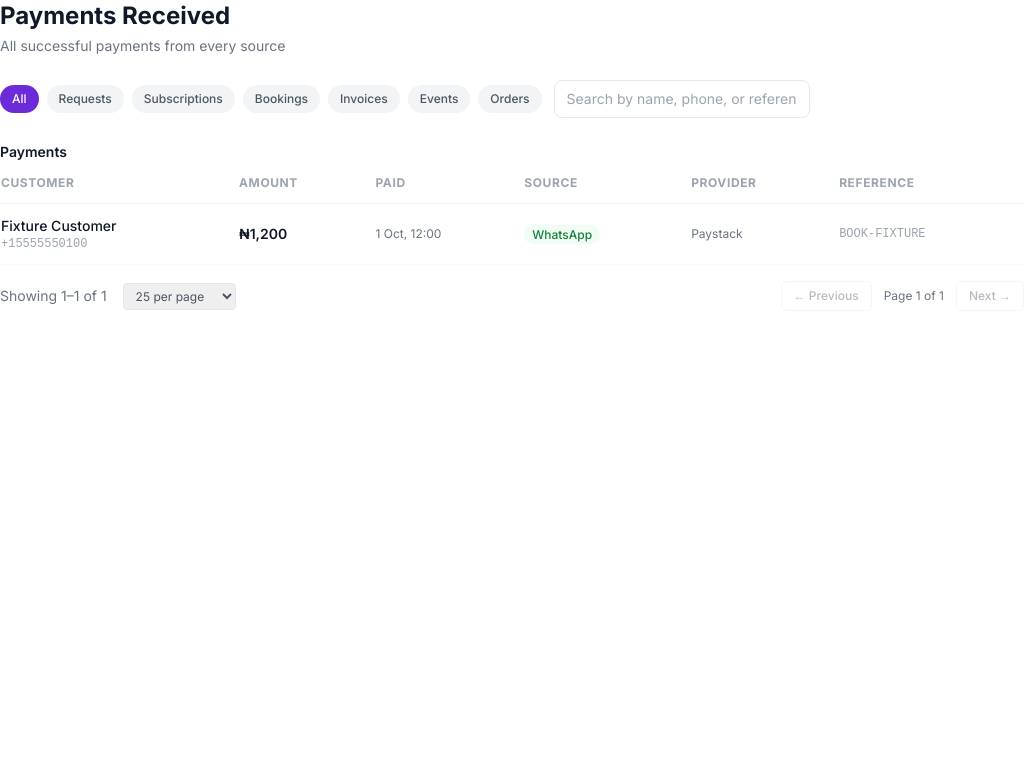
Test: W22 Payments Received mounted page › renders the outgoing booking object in the row and detail modal
Check: the text "+15555550100" is shown, box top-left (1, 237), bottom-right (87, 251)
Check: the text "WhatsApp" is shown, box top-left (524, 225), bottom-right (600, 244)
Click the button with aria-label "View payment from Fixture Customer": (59, 226) top-left (0, 204), bottom-right (1023, 264)
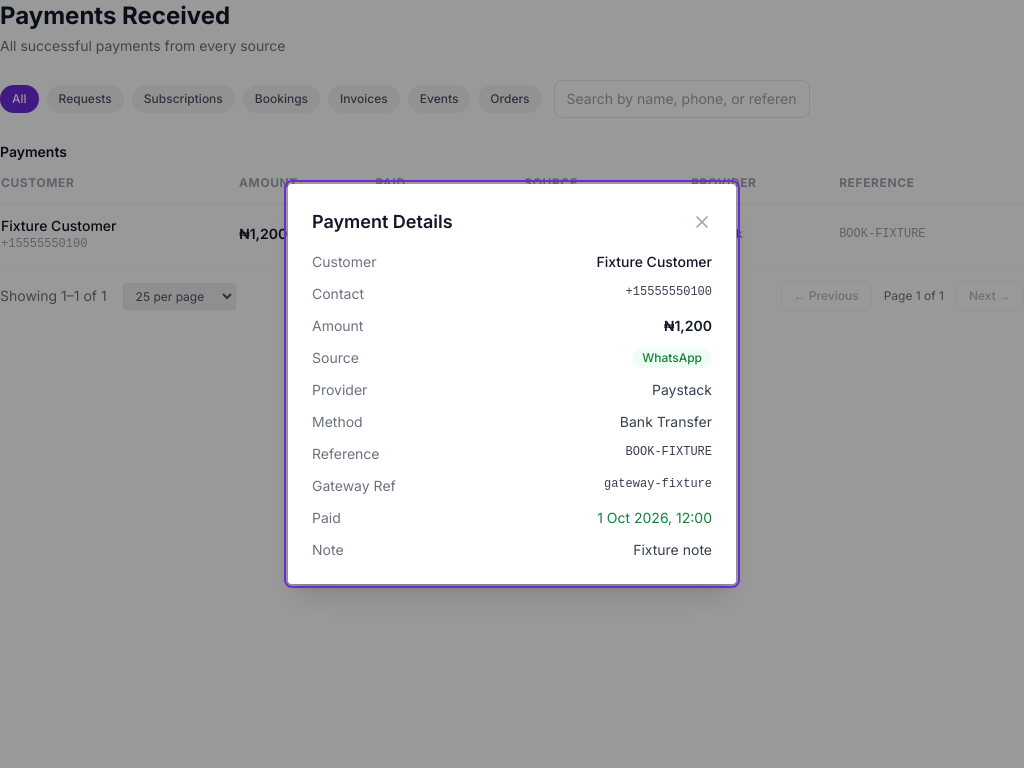
Check: the text "Fixture Customer" is shown, box top-left (596, 252), bottom-right (712, 272)
Check: the text "+15555550100" is shown, box top-left (626, 284), bottom-right (712, 304)
Check: the text "WhatsApp" is shown, box top-left (632, 348), bottom-right (712, 368)
Click the button named "Close payment details": (702, 222) top-left (692, 212), bottom-right (712, 232)
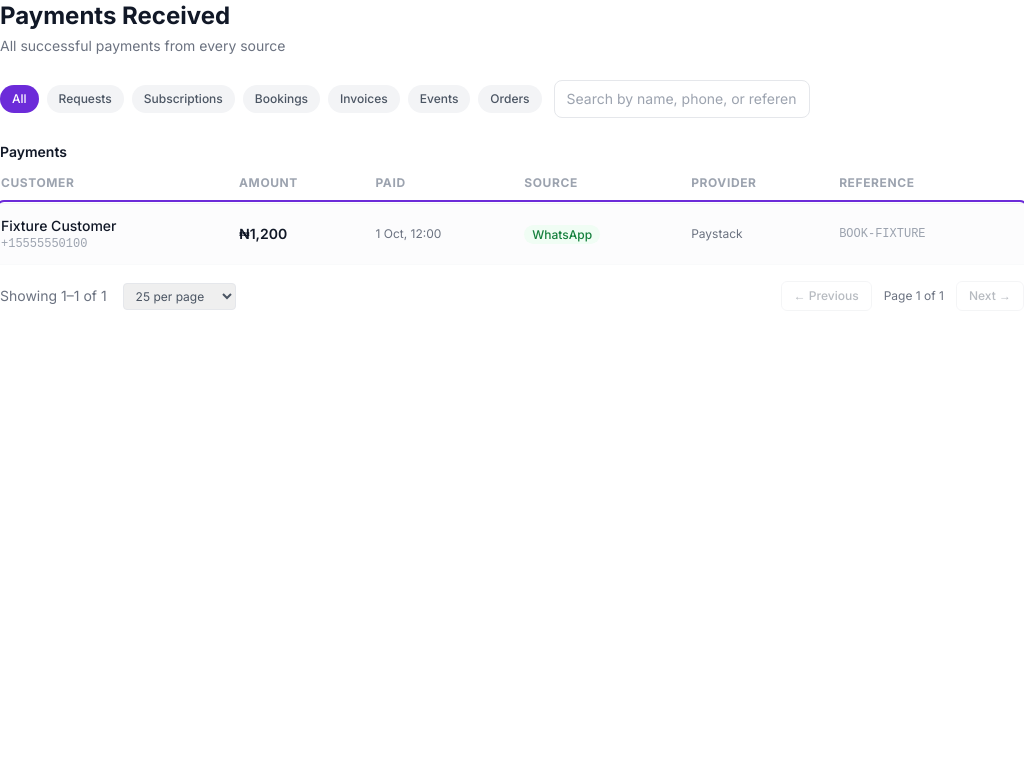
Check: the dialog is gone
